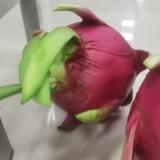pitaya: (23, 9, 147, 121)
